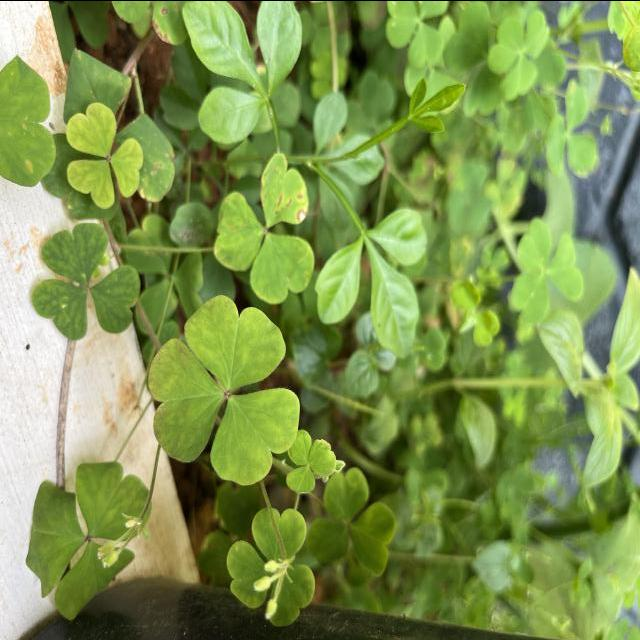Oxalis corniculata: (146, 292, 302, 486), (213, 151, 316, 305), (31, 221, 142, 342), (64, 100, 144, 210), (286, 427, 338, 494)
